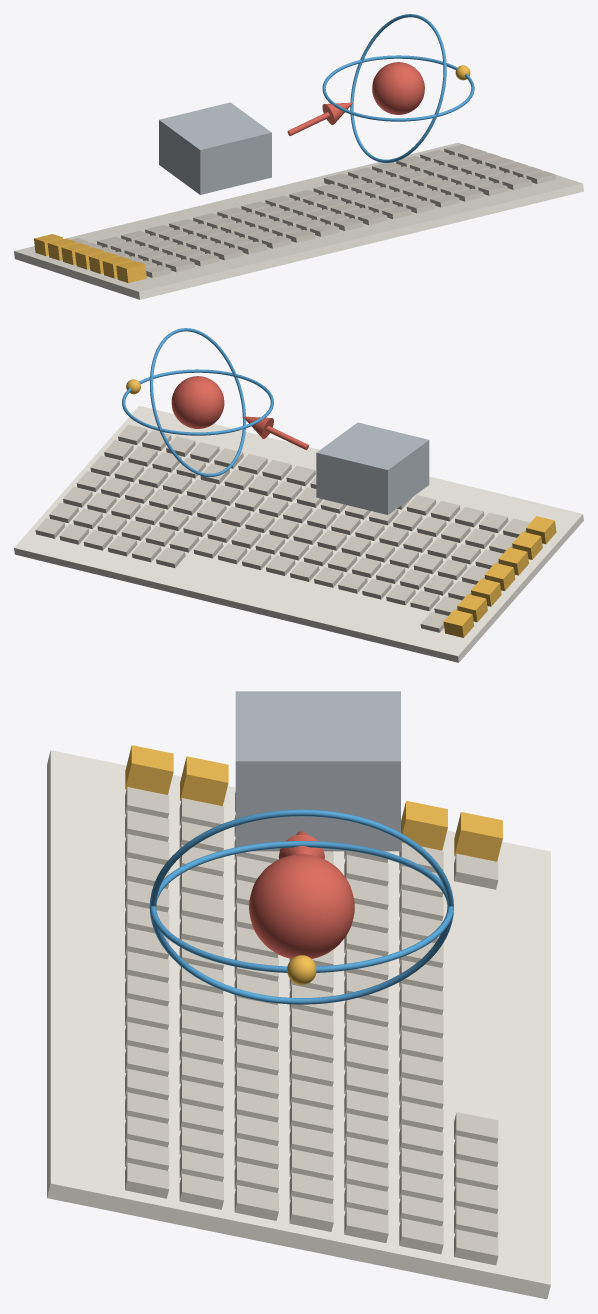
Rendered from chem-periodic-alkali-metal.glb.
3 views of the same model, one above another, from view 1: azimuth 30°, elevation 25°; view 2: azimuth 150°, elevation 25°; view 3: azimuth 270°, elevation 25° (orthographic). The views are drawn at different scales.
Visible parts, largest first — view 1: table-backing, soft-shiny-metal-sample, nucleus, shell-y, shell-x, highlight-cell-1-7; view 2: table-backing, soft-shiny-metal-sample, nucleus, shell-y, shell-x, highlight-cell-1-1, highlight-cell-1-6, highlight-cell-1-2, highlight-cell-1-3, highlight-cell-1-4, highlight-cell-1-5, highlight-cell-1-7; view 3: table-backing, soft-shiny-metal-sample, nucleus, shell-y, shell-x, highlight-cell-1-1, highlight-cell-1-6, highlight-cell-1-7, highlight-cell-1-2, cell-2-1, cell-18-2, cell-18-1 (+90 smaller).
Part boxes in pixels (x1=…): table-backing: x1=14, y1=143, x2=583, y2=299; soft-shiny-metal-sample: x1=159, y1=102, x2=271, y2=194; nucleus: x1=372, y1=62, x2=424, y2=114; shell-y: x1=350, y1=14, x2=446, y2=162; shell-x: x1=322, y1=55, x2=474, y2=121; highlight-cell-1-7: x1=116, y1=261, x2=146, y2=282; table-backing: x1=14, y1=405, x2=583, y2=662; soft-shiny-metal-sample: x1=316, y1=422, x2=429, y2=514; nucleus: x1=171, y1=376, x2=224, y2=428; shell-y: x1=150, y1=328, x2=246, y2=476; shell-x: x1=122, y1=369, x2=273, y2=435; highlight-cell-1-1: x1=443, y1=609, x2=474, y2=637; highlight-cell-1-6: x1=512, y1=531, x2=542, y2=559; highlight-cell-1-2: x1=457, y1=594, x2=487, y2=622; highlight-cell-1-3: x1=471, y1=578, x2=501, y2=606; highlight-cell-1-4: x1=484, y1=563, x2=515, y2=590; highlight-cell-1-5: x1=498, y1=547, x2=528, y2=575; highlight-cell-1-7: x1=526, y1=516, x2=556, y2=544; table-backing: x1=47, y1=750, x2=550, y2=1299; soft-shiny-metal-sample: x1=235, y1=691, x2=400, y2=851; nucleus: x1=249, y1=854, x2=354, y2=958; shell-y: x1=149, y1=809, x2=453, y2=1004; shell-x: x1=149, y1=841, x2=453, y2=972; highlight-cell-1-1: x1=454, y1=812, x2=502, y2=861; highlight-cell-1-6: x1=180, y1=756, x2=228, y2=806; highlight-cell-1-7: x1=125, y1=745, x2=173, y2=794; highlight-cell-1-2: x1=401, y1=800, x2=447, y2=850; cell-2-1: x1=454, y1=853, x2=498, y2=889; cell-18-2: x1=399, y1=1218, x2=443, y2=1254; cell-18-1: x1=454, y1=1229, x2=498, y2=1265.
Size of what is drawn, in the model's own units: 3.1 by 1.33 by 1.52.
